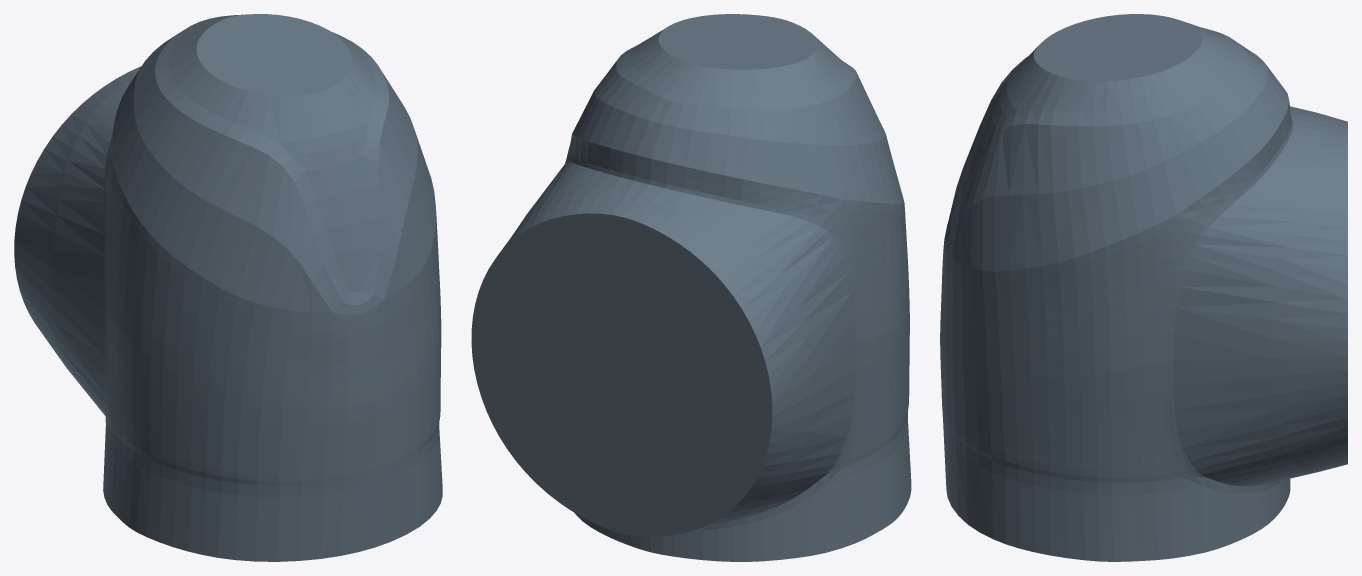
3 views of the same model, side by side, from view 1: azimuth 30°, elevation 25°; view 2: azimuth 150°, elevation 25°; view 3: azimuth 270°, elevation 25° (orthographic). The views are drawn at different scales.
Visible parts, largest first — view 1: MF0617_1_0; view 2: MF0617_1_0; view 3: MF0617_1_0.
Boxes of the visible parts, x1,y1,x2,y2 form: MF0617_1_0: (14,14,442,561); MF0617_1_0: (471,14,911,561); MF0617_1_0: (940,14,1347,561).
Bounding box in the file's own units: 153 × 181 × 220.
